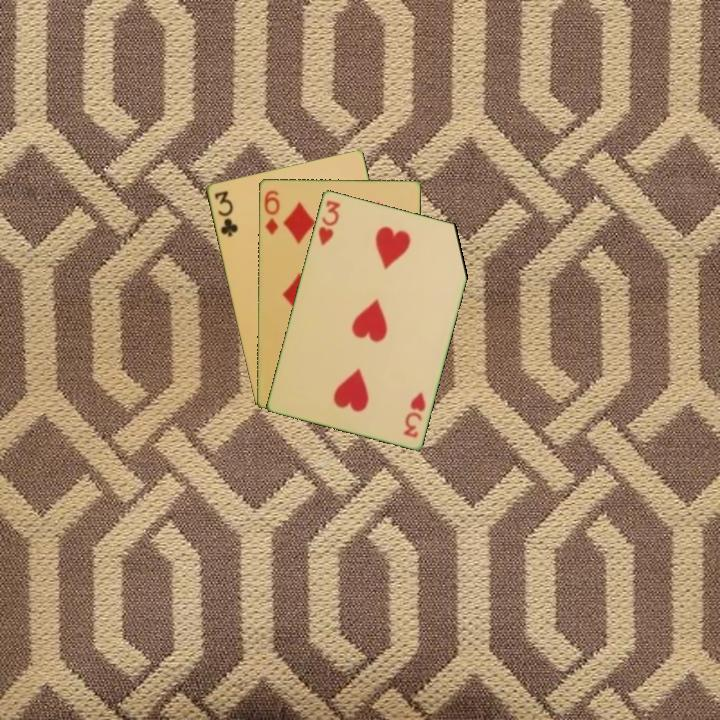3c: (211, 187, 240, 239)
3h: (314, 196, 343, 248), (399, 388, 428, 440)
6d: (260, 186, 282, 237)
